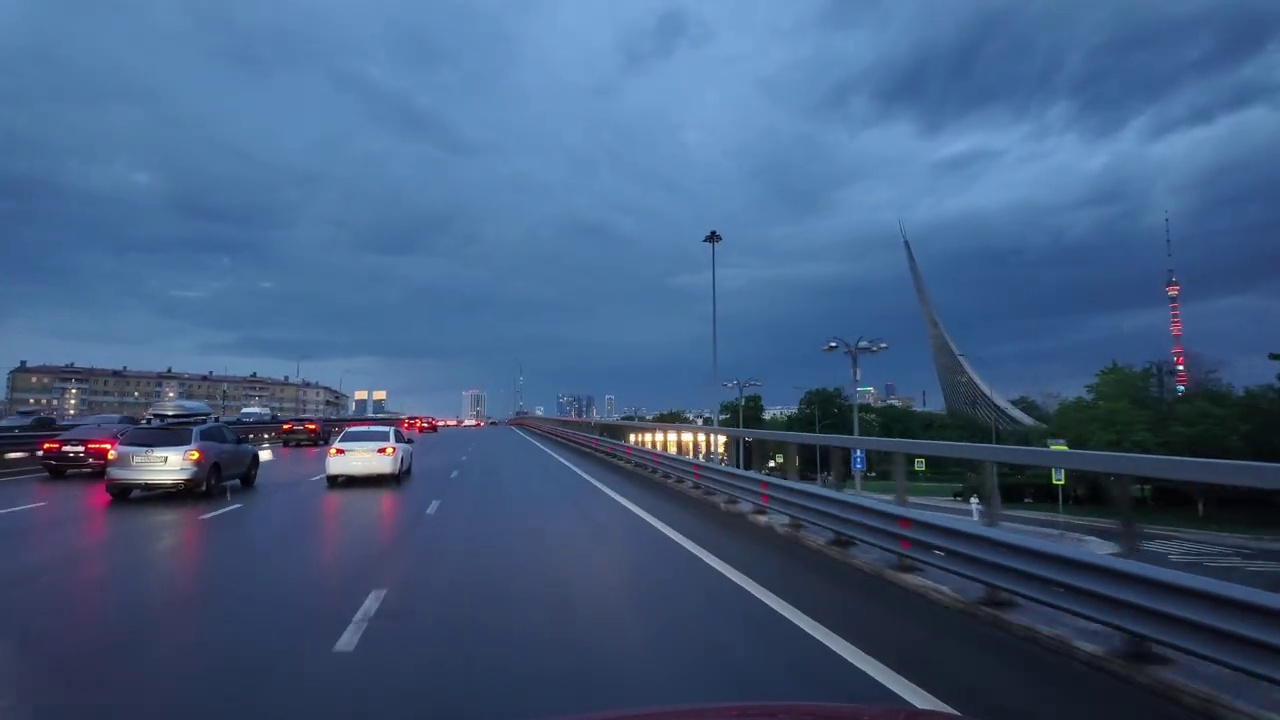apagada: (699, 227, 726, 251)
